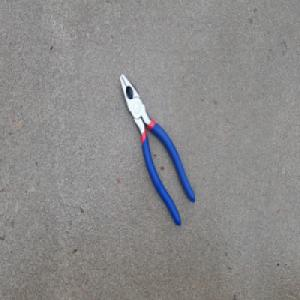Pliers: (118, 73, 195, 227)
